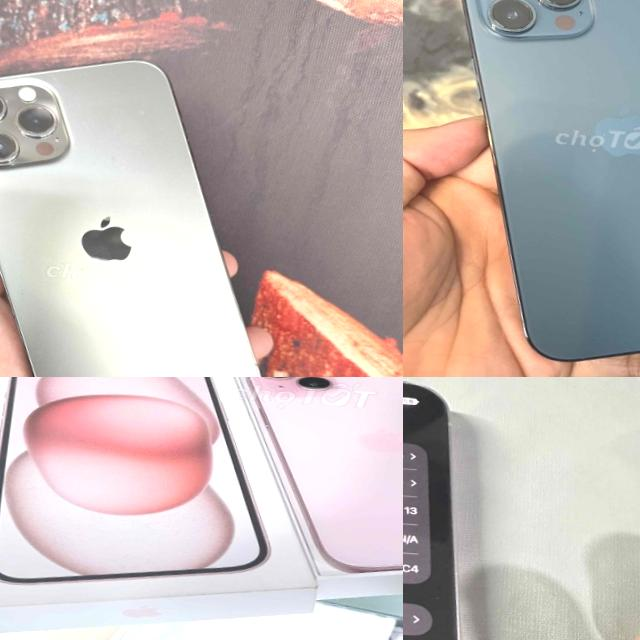gen_12_13: (0, 45, 283, 377), (422, 0, 640, 377), (403, 377, 510, 640)
gen_15: (218, 377, 403, 587)
